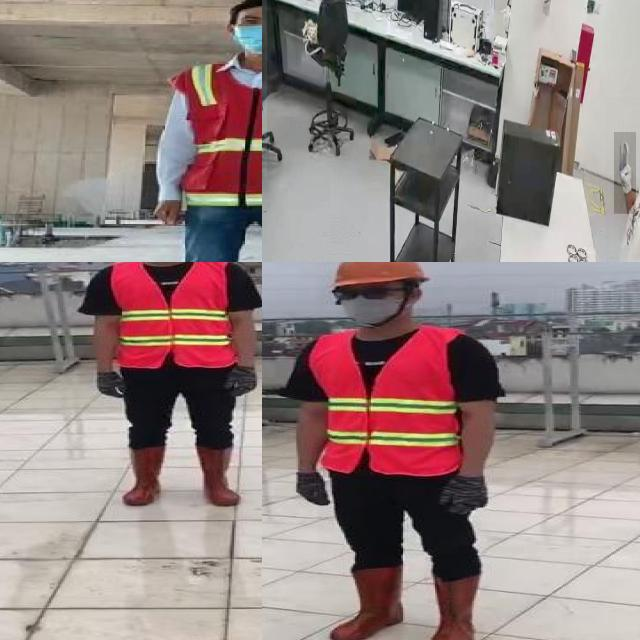boots: (328, 566, 406, 640), (424, 575, 481, 640), (193, 443, 245, 509), (122, 445, 168, 506)
face_mask: (331, 283, 406, 325), (228, 13, 262, 59)
glasses: (328, 286, 398, 304)
hand_glove: (437, 475, 495, 517), (614, 132, 636, 214), (293, 473, 328, 508), (225, 365, 261, 399), (94, 371, 129, 398)
hand_noglove: (148, 195, 188, 229)
head_helmet: (321, 262, 436, 290)
head_nohelmet: (225, 0, 262, 18)
person: (281, 262, 515, 640), (71, 262, 262, 513), (149, 0, 262, 262)
vest: (307, 323, 463, 475), (166, 54, 262, 213), (113, 262, 234, 368)
